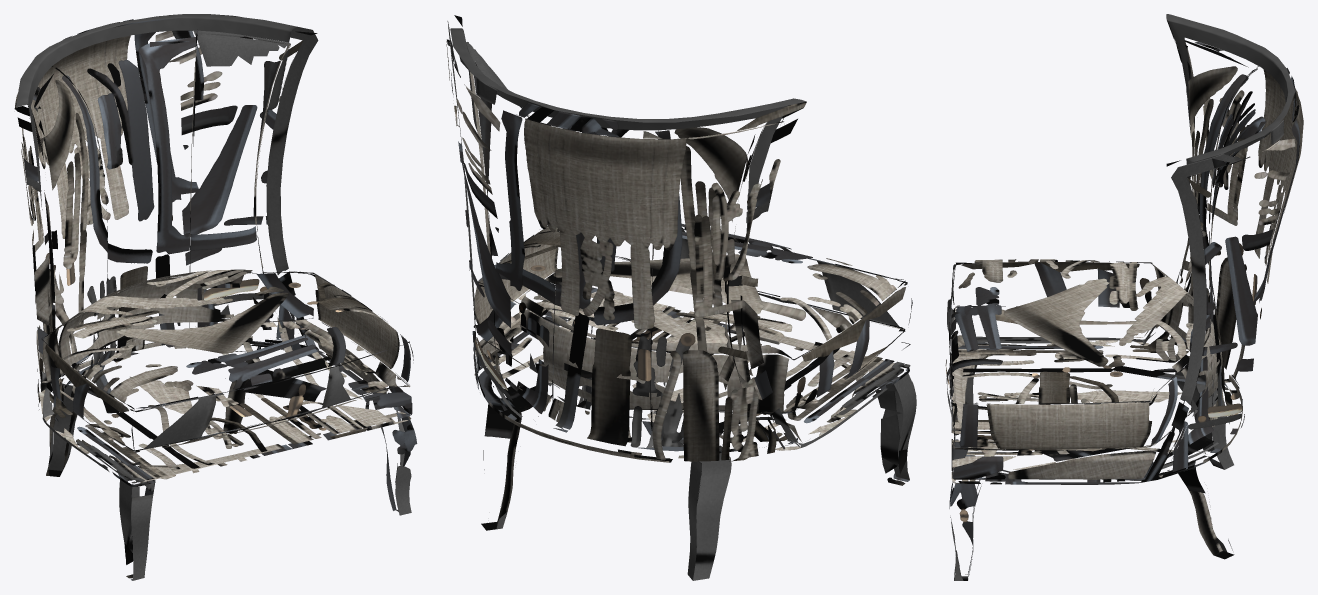
The picture shows the model from 3 angles, left to right: view 1: azimuth 30°, elevation 25°; view 2: azimuth 150°, elevation 25°; view 3: azimuth 270°, elevation 25°; orthographic projection. The views are drawn at different scales.
Visible parts, largest first — view 1: solid_002, solid_001; view 2: solid_002, solid_001; view 3: solid_002, solid_001.
Boxes of the visible parts, x1=… form: solid_002: x1=14, y1=30, x2=413, y2=483; solid_001: x1=15, y1=14, x2=417, y2=580; solid_002: x1=446, y1=39, x2=912, y2=461; solid_001: x1=447, y1=15, x2=916, y2=580; solid_002: x1=945, y1=38, x2=1303, y2=479; solid_001: x1=949, y1=14, x2=1296, y2=580.
Bounding box in the file's own units: 1.14 × 1.43 × 1.11.
